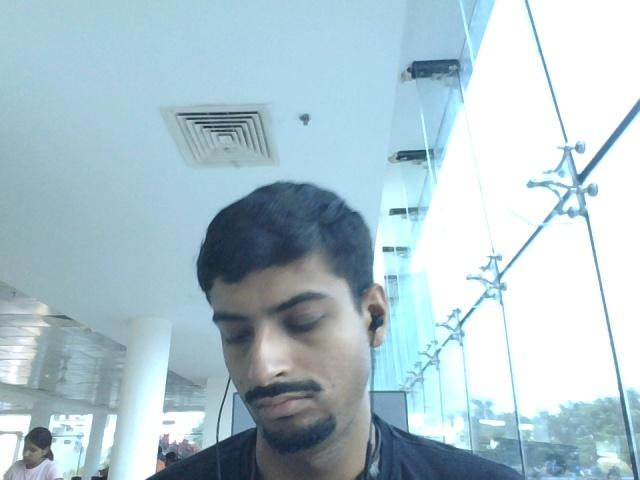average: (182, 183, 403, 471)
